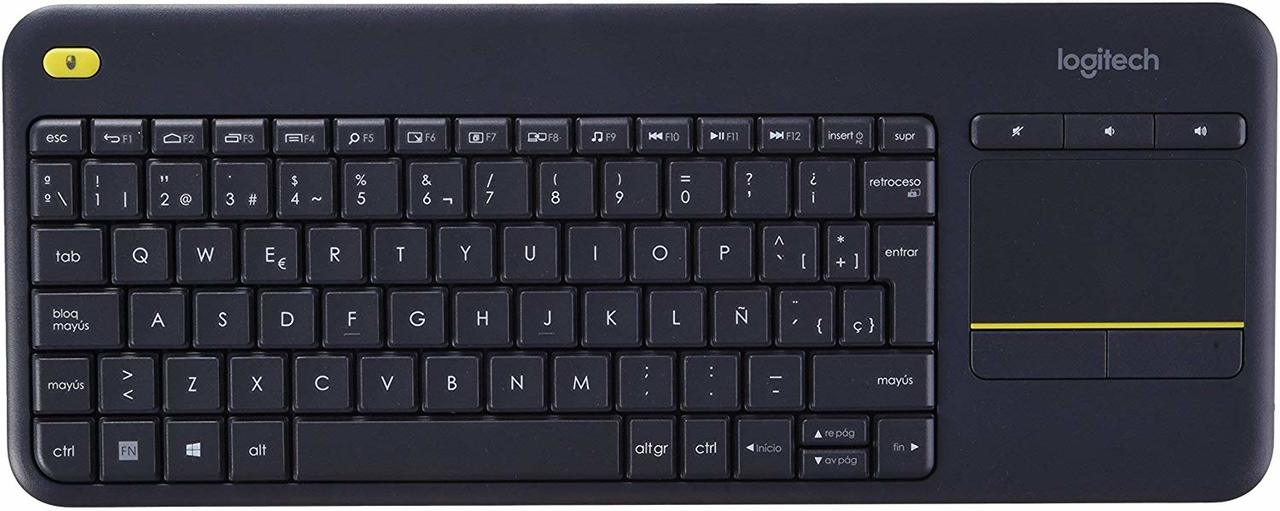logitech-keyboard-k400: (5, 14, 1279, 511)
